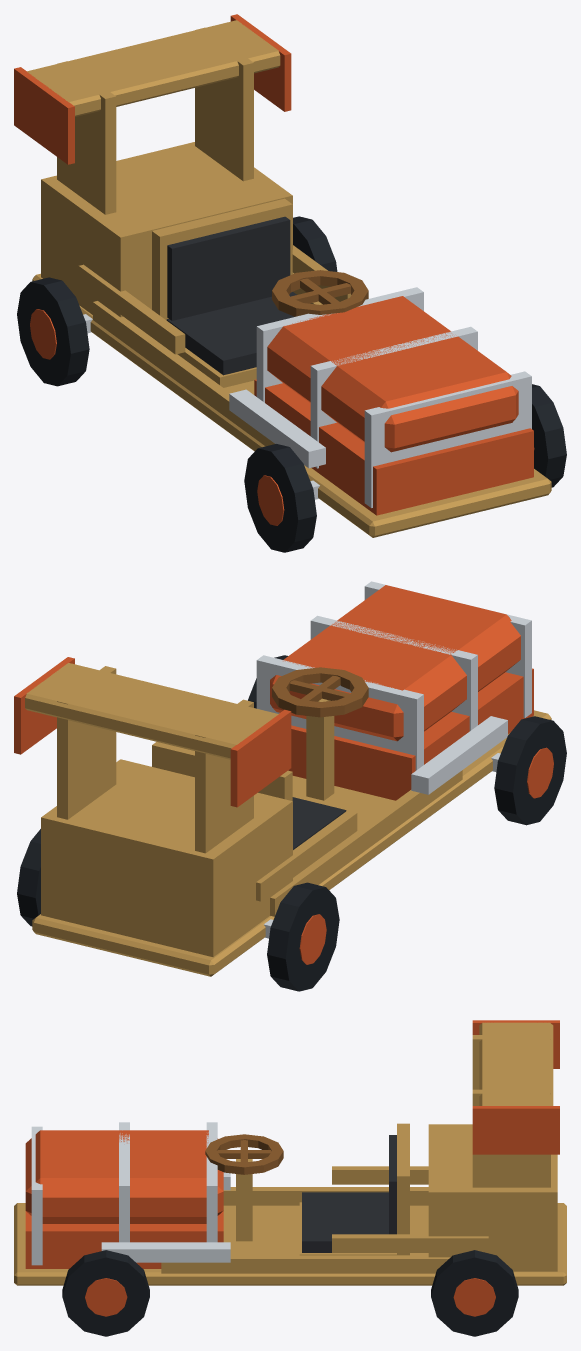
Rendered from veh_derby_crate_rod_1p.glb.
3 views of the same model, one above another, from view 1: azimuth 30°, elevation 25°; view 2: azimuth 150°, elevation 25°; view 3: azimuth 270°, elevation 25° (orthographic). The views are drawn at different scales.
Parts seen in each view (by area): view 1: body, drum_cradle, derby_wheel, seat_cushion, drum_rib_1, steer_spin, wheel_hub; view 2: body, drum_cradle, derby_wheel, drum_rib_1, steer_spin, wheel_hub, seat_cushion; view 3: body, drum_cradle, derby_wheel, drum_rib_1, seat_cushion, wheel_hub, steer_spin.
Boxes of the visible parts, left/top/right/bottom form: body: left=27, top=20, right=551, bottom=537; drum_cradle: left=14, top=14, right=533, bottom=515; derby_wheel: left=17, top=216, right=566, bottom=552; seat_cushion: left=166, top=216, right=296, bottom=375; drum_rib_1: left=83, top=287, right=531, bottom=507; steer_spin: left=272, top=270, right=368, bottom=316; wheel_hub: left=30, top=309, right=534, bottom=525; body: left=25, top=663, right=551, bottom=976; drum_cradle: left=14, top=585, right=533, bottom=807; derby_wheel: left=17, top=655, right=566, bottom=991; drum_rib_1: left=256, top=581, right=531, bottom=938; steer_spin: left=272, top=667, right=368, bottom=717; wheel_hub: left=299, top=747, right=553, bottom=964; seat_cushion: left=292, top=797, right=346, bottom=849; body: left=14, top=1022, right=566, bottom=1285; drum_cradle: left=25, top=1020, right=559, bottom=1268; derby_wheel: left=62, top=1250, right=518, bottom=1336; drum_rib_1: left=31, top=1122, right=230, bottom=1265; seat_cushion: left=302, top=1135, right=396, bottom=1252; wheel_hub: left=85, top=1278, right=495, bottom=1316; steer_spin: left=205, top=1134, right=283, bottom=1174.
Size of the model in its own units: 1.1 by 1.05 by 2.4.
